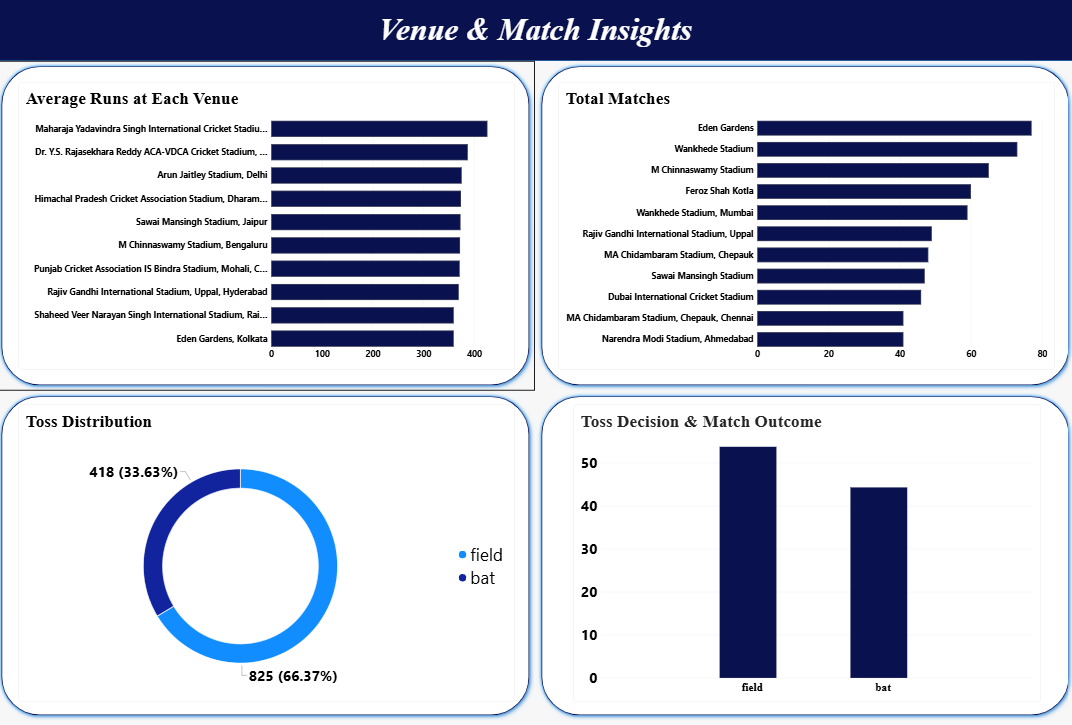

The page's visual inventory and layout, read from the dashboard file:
{"tool":"powerbi","page":{"name":"Page 5","canvas":[2500,1700],"ordinal":4},"visuals":[{"type":"shape","box":[0,0,2500.2,147.8],"z":0},{"type":"textbox","box":[0,34.8,2500.2,113],"z":1000},{"type":"shape","box":[0,147.8,1248.6,764.8],"z":2000},{"type":"shape","box":[0,912.6,1248.6,764.8],"z":3000},{"type":"shape","box":[1251.5,147.8,1248.6,764.8],"z":4000},{"type":"shape","box":[1251.5,912.6,1248.6,764.8],"z":5000},{"type":"clusteredBarChart","title":"Average Runs at Each Venue","fields":{"Category":["public ipl_data.venue"],"Y":["public ipl_data.Average Match Runs"]},"box":[52.1,197,1150.1,666.3],"z":6000},{"type":"clusteredBarChart","title":"Total Matches","fields":{"Category":["public ipl_data.venue"],"Y":["public ipl_data.Total_Matches"]},"box":[1303.7,197,1150.1,666.3],"z":7000},{"type":"donutChart","title":"Toss Distribution","fields":{"Category":["public ipl_data.toss_decision"],"Y":["public ipl_data.Toss Decisions"]},"box":[52.1,944.4,1150.1,689.5],"z":8000},{"type":"columnChart","title":"Toss Decision & Match Outcome","fields":{"Category":["public ipl_data.toss_decision"],"Y":["public ipl_data.Toss Decision Win Rate"]},"box":[1338.5,944.4,1083.5,689.5],"z":9000}]}

Visuals, with their boxes in screenshot pixels (x1, y1, x2, y2), scaled from the page's 2500x1700 canvas onto the 1072x725 screenshot:
shape: <box>0,0,1071,63</box>
textbox: <box>0,15,1071,63</box>
shape: <box>0,63,535,389</box>
shape: <box>0,389,535,715</box>
shape: <box>537,63,1071,389</box>
shape: <box>537,389,1071,715</box>
"Average Runs at Each Venue" clusteredBarChart: <box>22,84,516,368</box>
"Total Matches" clusteredBarChart: <box>559,84,1052,368</box>
"Toss Distribution" donutChart: <box>22,403,516,697</box>
"Toss Decision & Match Outcome" columnChart: <box>574,403,1039,697</box>
